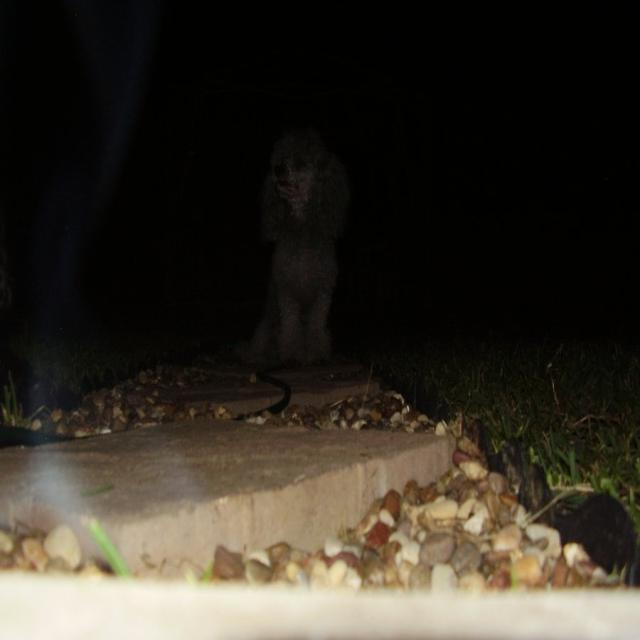dog: (243, 102, 360, 361)
